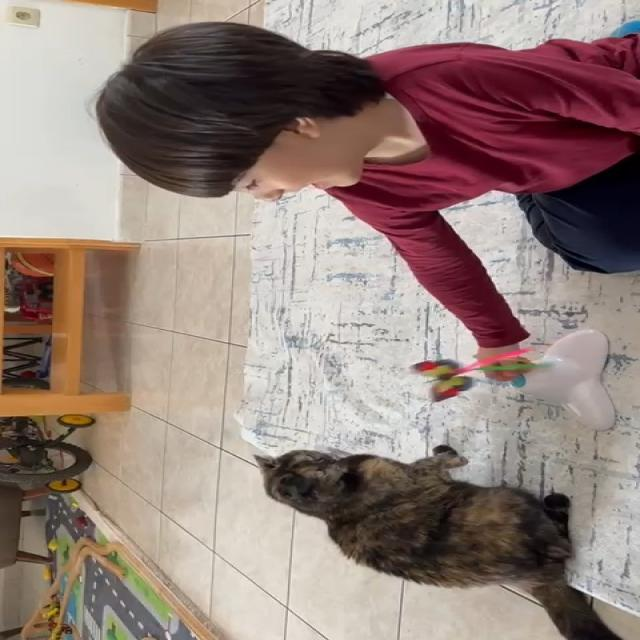authorized: (252, 445, 623, 639)
